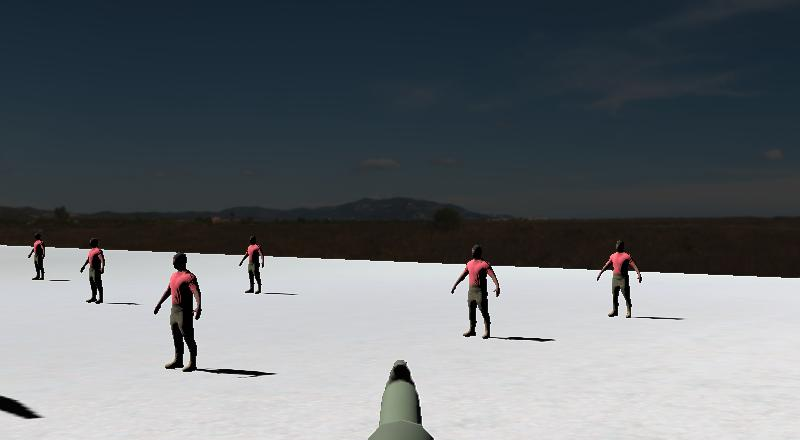Human: (143, 242, 215, 385), (437, 235, 512, 352), (587, 232, 652, 331), (76, 230, 115, 313), (234, 228, 274, 302), (22, 226, 54, 288)
